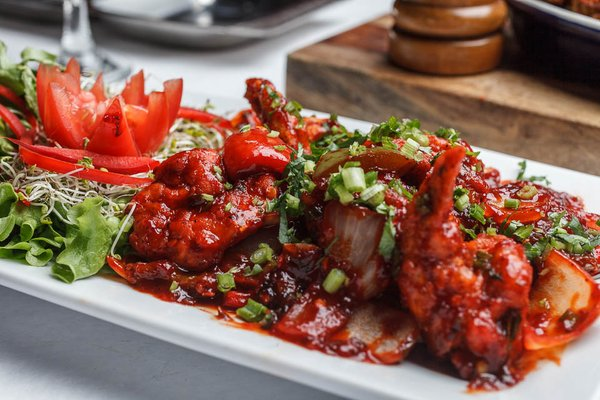curry: (0, 1, 599, 391)
sandwich: (74, 76, 598, 385)
